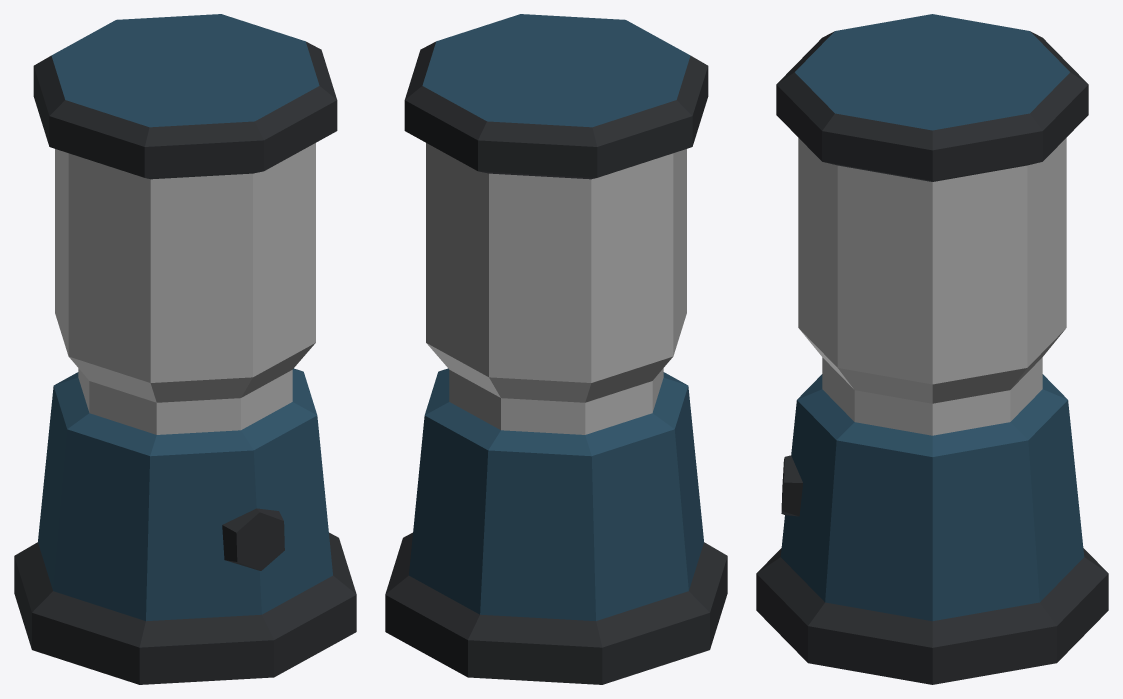
File: SM_Prop_Flashlight_07.obj
3 renders of one model, left to right at view 1: azimuth 30°, elevation 25°; view 2: azimuth 150°, elevation 25°; view 3: azimuth 270°, elevation 25°, orthographic.
Visible parts, largest first — view 1: SM_Prop_Flashlight_07_0; view 2: SM_Prop_Flashlight_07_0; view 3: SM_Prop_Flashlight_07_0.
Part boxes in pixels (x1,y1,x2,y2): SM_Prop_Flashlight_07_0: [14, 14, 356, 684]; SM_Prop_Flashlight_07_0: [385, 14, 727, 684]; SM_Prop_Flashlight_07_0: [756, 14, 1108, 684].
Bounding box in the file's own units: 0.1984 × 0.3345 × 0.1984.
1 material, 1 textured.
